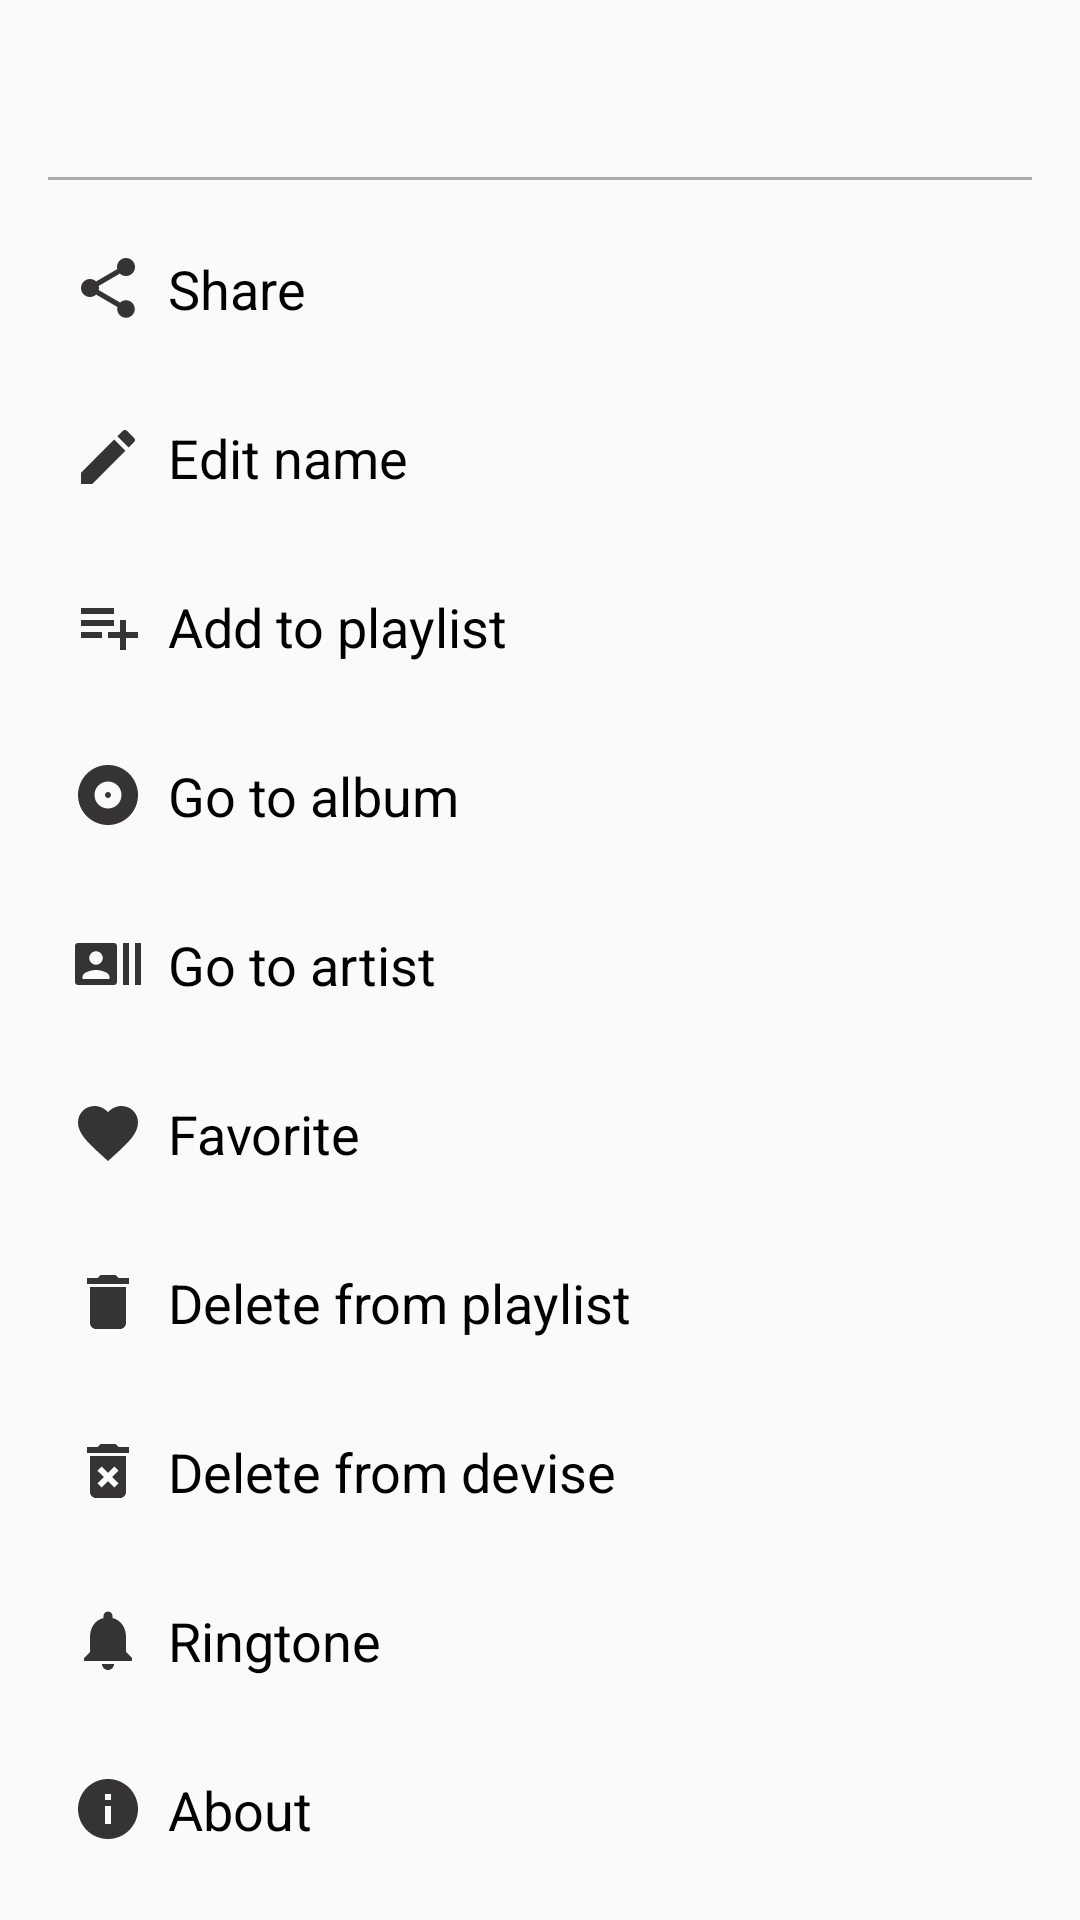

Named icons in this screenshot (1080px×1920px) and their bounding boxes, (left=x1, top=y1, right=x2, bottom=y2):
bell: (left=84, top=1611, right=132, bottom=1670)
delete forever: (left=87, top=1444, right=129, bottom=1498)
info: (left=78, top=1779, right=138, bottom=1839)
mode: (left=81, top=430, right=135, bottom=484)
recent actors: (left=75, top=943, right=141, bottom=985)
